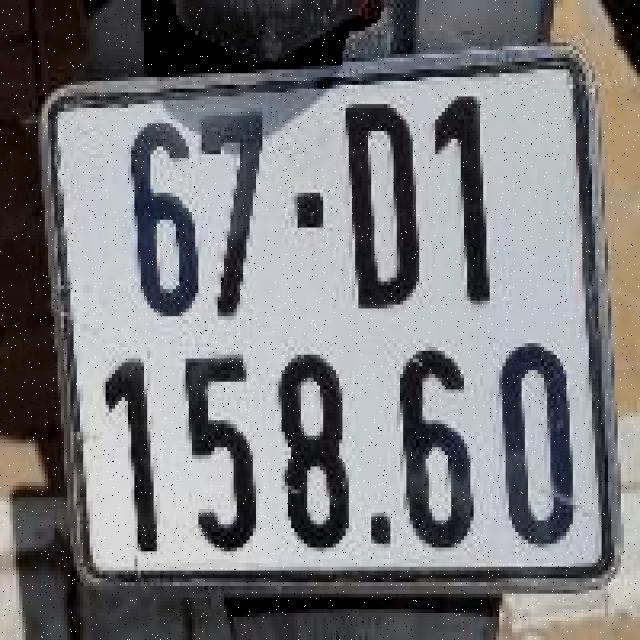0: (482, 318, 587, 546)
1: (82, 333, 171, 592), (429, 79, 496, 318)
5: (181, 351, 270, 563)
6: (388, 328, 482, 566), (115, 98, 211, 326)
7: (195, 108, 282, 324)
8: (275, 341, 368, 565)
D: (326, 77, 429, 332)
